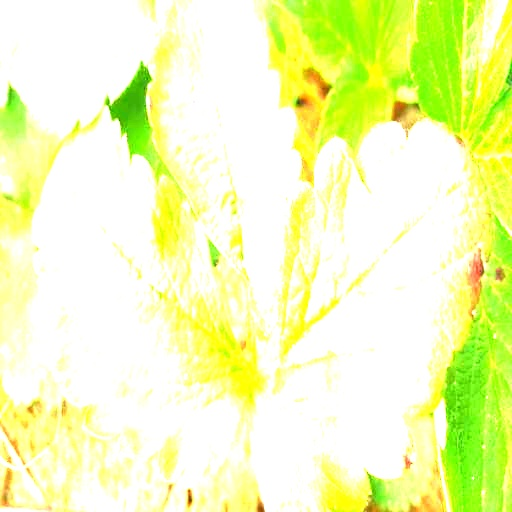Leaf Spot: (246, 117, 493, 511), (31, 101, 252, 486), (147, 0, 303, 285)
